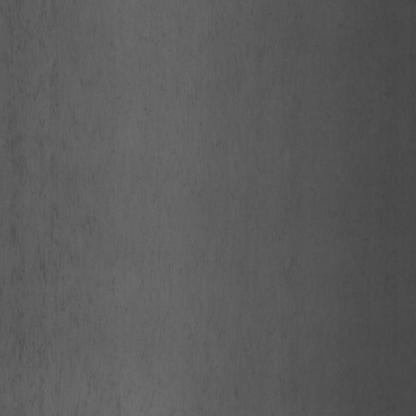silk_spot: (157, 58, 296, 285)
